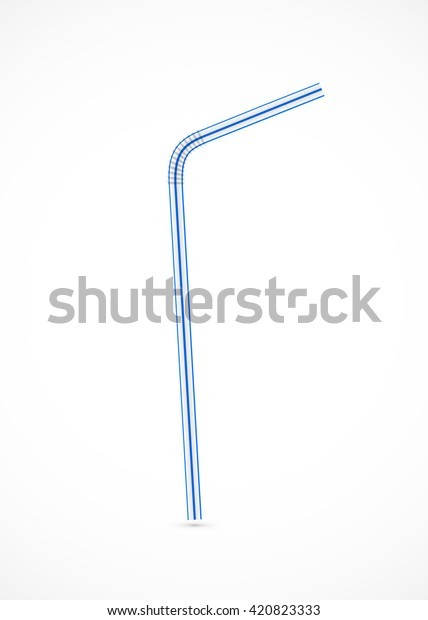Drinking Straw: (163, 78, 330, 526)
